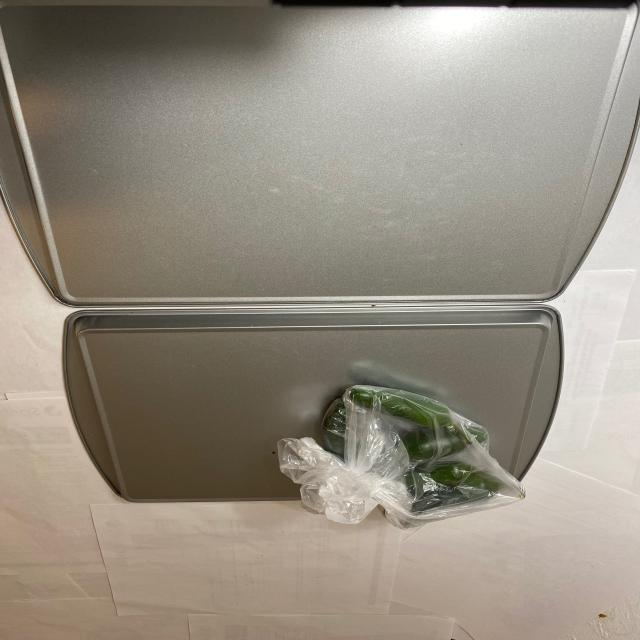chilli: (322, 386, 528, 524)
